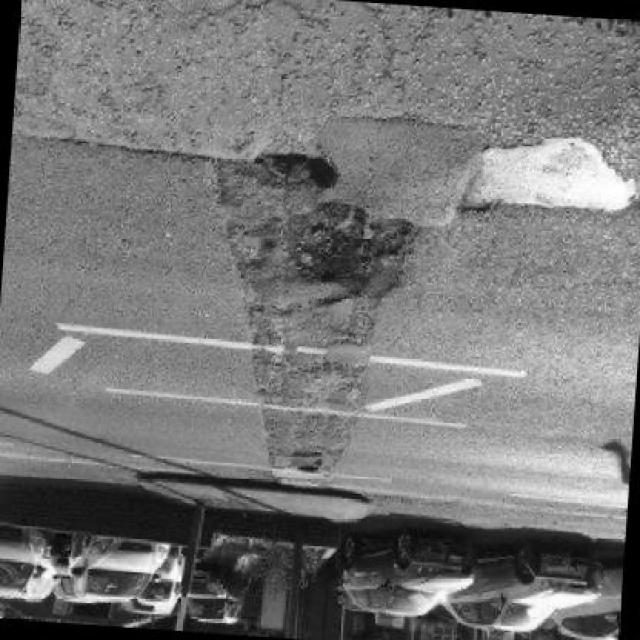pothole: (268, 202, 421, 309), (252, 142, 343, 195), (292, 444, 326, 478)
